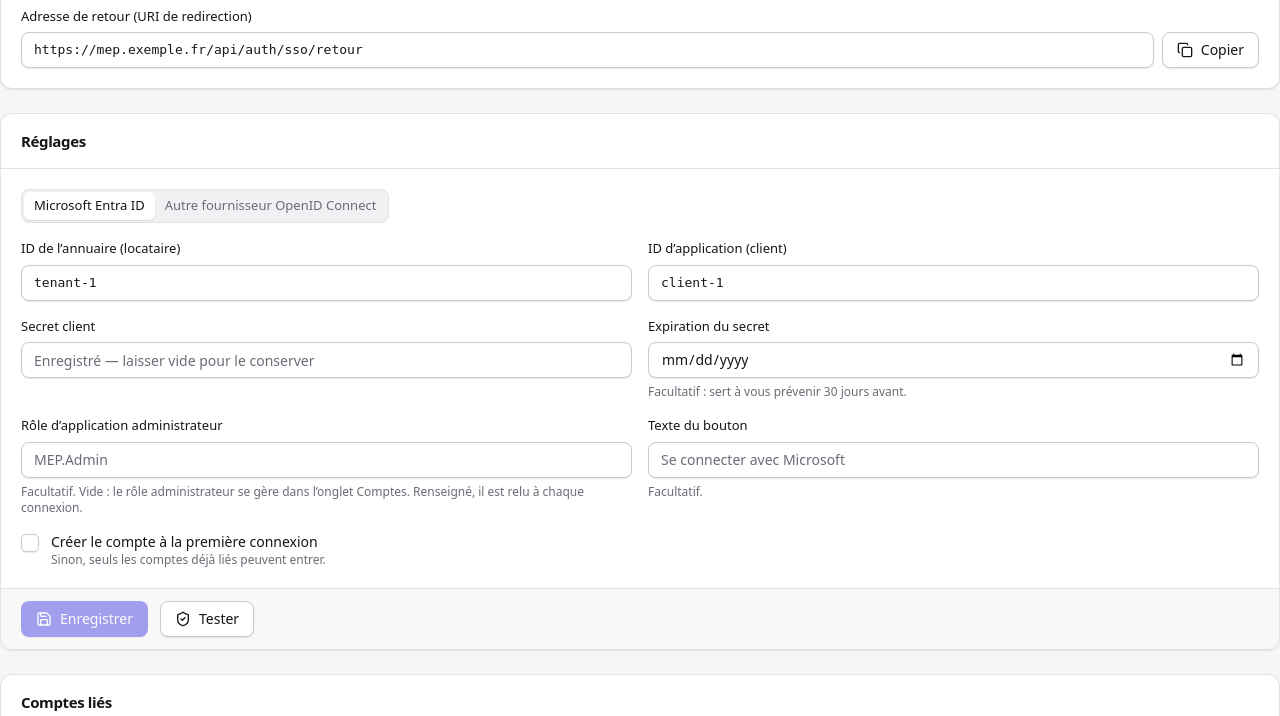
Onglet Connexion unique › envoie le secret saisi et affiche l’erreur du serveur
The image size is (1280, 716).
(page scrolled)
Type "nouveau-secret" into the password field labelled "Secret client" at (326, 360), box [21, 342, 632, 378]
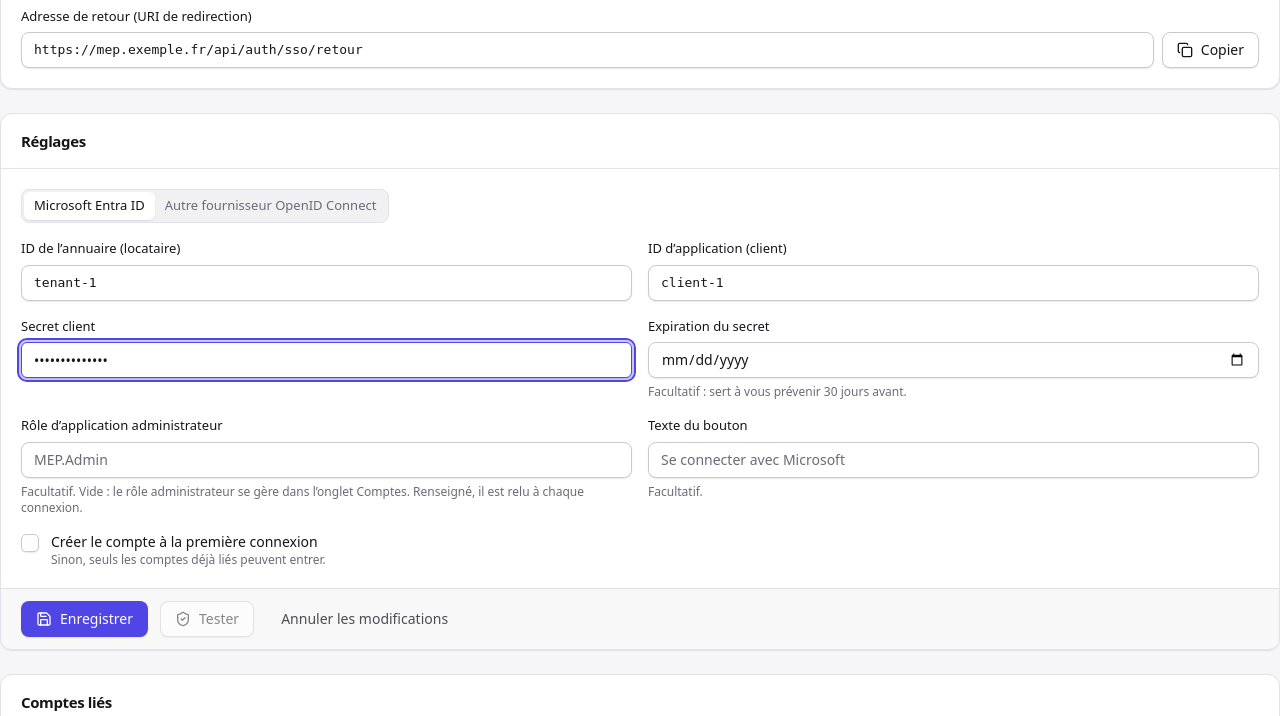
Click the button "Enregistrer" at (84, 619), box [21, 601, 148, 637]
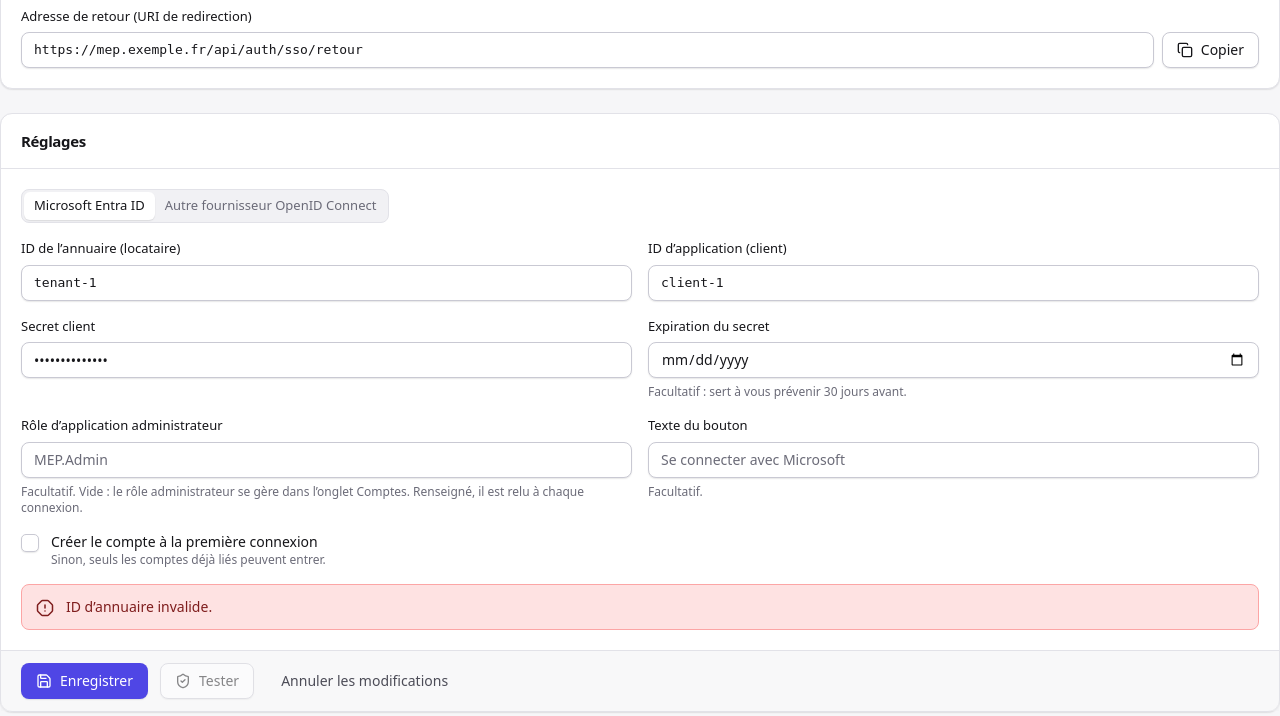
Expected: the text "ID d’annuaire invalide." is shown, [66, 597, 212, 616]
